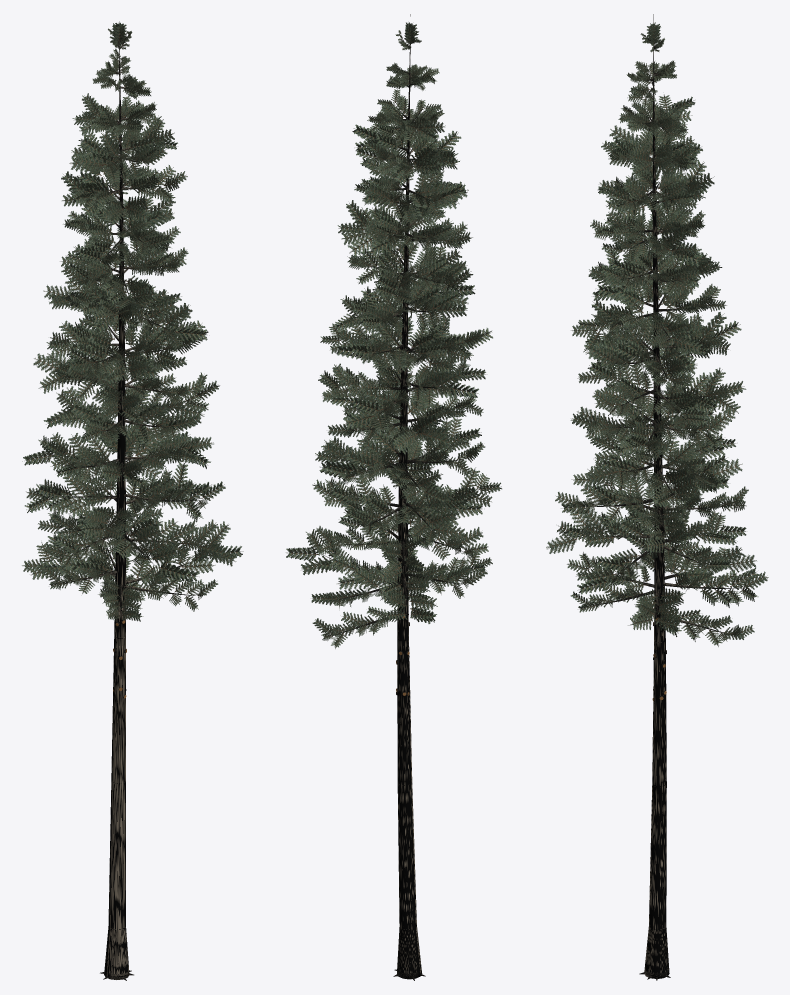
File: Sitka_Mature_02_MediumPruned_Recent_LOD0.fbx
3 renders of one model, left to right at view 1: azimuth 30°, elevation 25°; view 2: azimuth 150°, elevation 25°; view 3: azimuth 270°, elevation 25°, orthographic.
Parts seen in each view (by area): view 1: Sitka_Mature_02_MediumPruned_Recent_LOD0; view 2: Sitka_Mature_02_MediumPruned_Recent_LOD0; view 3: Sitka_Mature_02_MediumPruned_Recent_LOD0.
Part boxes in pixels (x1,y1,x2,y2): Sitka_Mature_02_MediumPruned_Recent_LOD0: [22, 21, 243, 980]; Sitka_Mature_02_MediumPruned_Recent_LOD0: [286, 14, 501, 980]; Sitka_Mature_02_MediumPruned_Recent_LOD0: [546, 14, 768, 980].
Size of the model in its own units: 568 by 2600 by 586.
3 materials, 3 textured.
